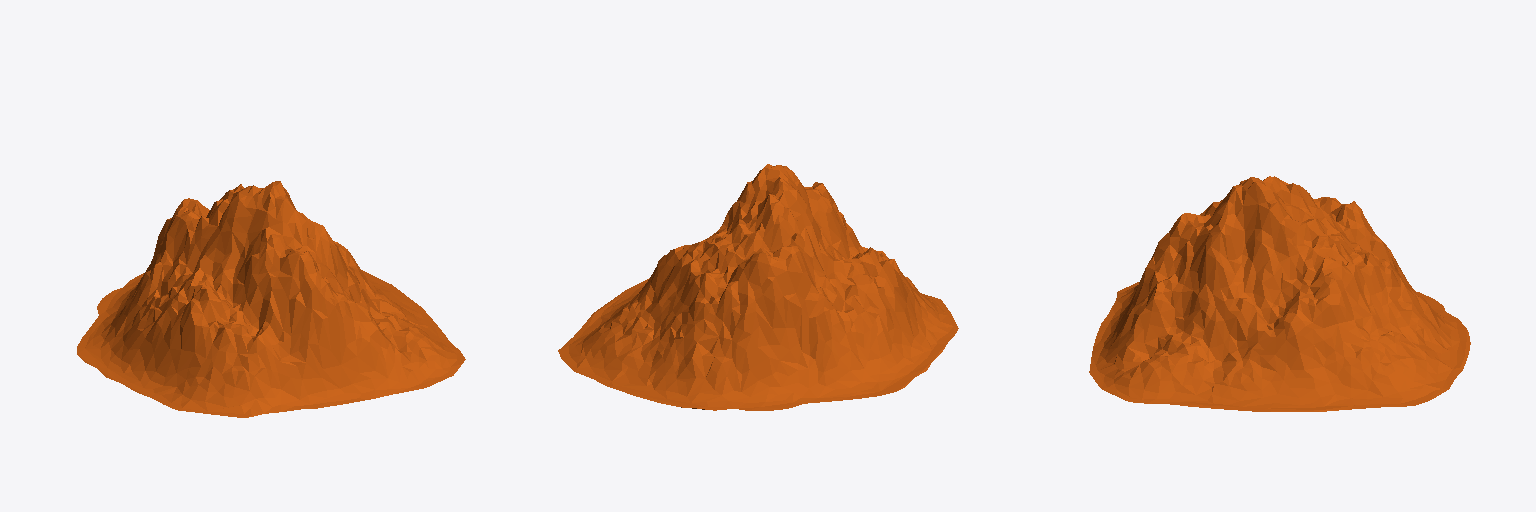
Rendered from mountain1.obj.
3 renders of one model, left to right at view 1: azimuth 30°, elevation 25°; view 2: azimuth 150°, elevation 25°; view 3: azimuth 270°, elevation 25°, orthographic.
Visible parts, largest first — view 1: Mounting_1_Plane.002; view 2: Mounting_1_Plane.002; view 3: Mounting_1_Plane.002.
Boxes of the visible parts, x1,y1,x2,y2 form: Mounting_1_Plane.002: [77, 181, 465, 417]; Mounting_1_Plane.002: [558, 164, 958, 410]; Mounting_1_Plane.002: [1089, 176, 1470, 411].
Size of the model in its own units: 15.72 by 7.8 by 16.75.